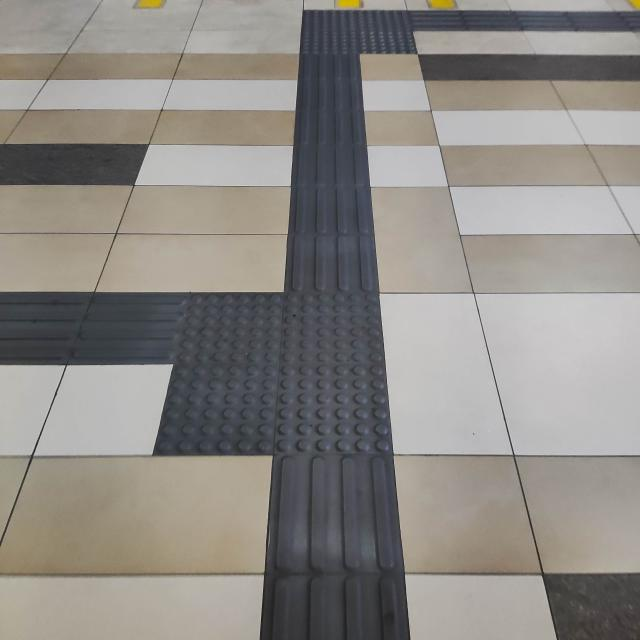kanan: (282, 0, 481, 71)
